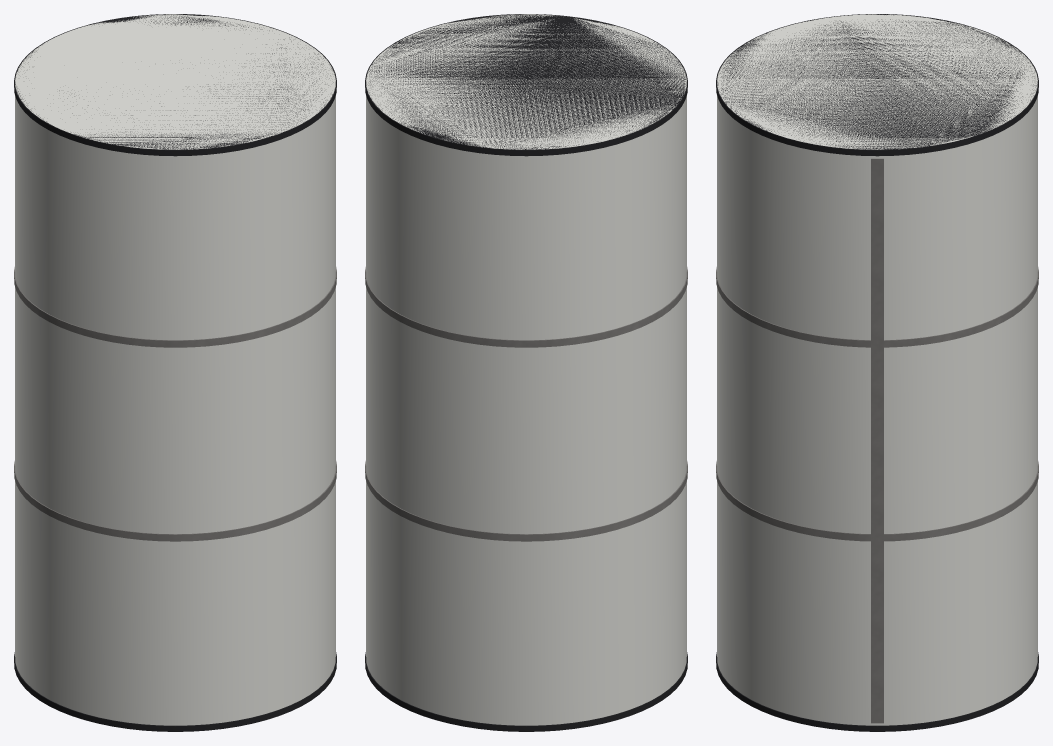
Rendered from tank13_tank_length_series_xxl_half.glb.
The picture shows the model from 3 angles, left to right: view 1: azimuth 30°, elevation 25°; view 2: azimuth 150°, elevation 25°; view 3: azimuth 270°, elevation 25°; orthographic projection.
Visible parts, largest first — view 1: tank, stack_flanges, ring_frames; view 2: tank, stack_flanges, ring_frames; view 3: tank, stack_flanges, feedline, ring_frames.
Part boxes in pixels (left/top/right/bottom): tank: left=15, top=14, right=335, bottom=725; stack_flanges: left=14, top=14, right=336, bottom=731; ring_frames: left=14, top=267, right=336, bottom=541; tank: left=366, top=14, right=686, bottom=725; stack_flanges: left=365, top=14, right=687, bottom=731; ring_frames: left=365, top=267, right=687, bottom=541; tank: left=717, top=14, right=1037, bottom=725; stack_flanges: left=716, top=14, right=1038, bottom=731; feedline: left=871, top=158, right=883, bottom=723; ring_frames: left=716, top=267, right=1038, bottom=541.
Bounding box in the file's own units: 7.54 × 15 × 7.55.
Materials: 3 (1 with a texture image).
